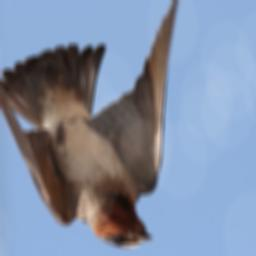Swallow: (0, 0, 179, 249)
